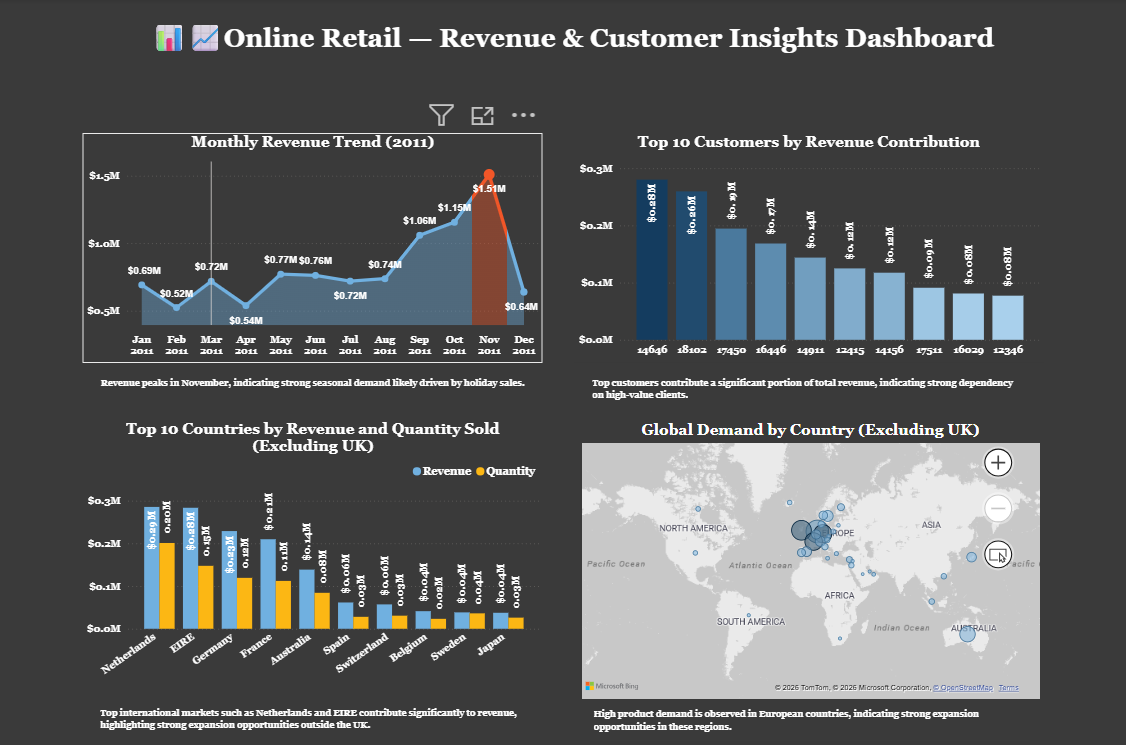

What the dashboard file says about the page in this screenshot:
{"tool":"powerbi","page":{"name":"Online Retail Analytics Dashboard","canvas":[1380,920],"ordinal":0},"visuals":[{"type":"lineChart","title":"Monthly Revenue Trend (2011)","fields":{"Y":["Sum(Online Retail.Revenue)"],"Category":["Online Retail.Month-Year"]},"box":[100.5,164.5,562.2,280],"z":0},{"type":"textbox","box":[116.9,456.5,528.8,45],"z":1000},{"type":"clusteredColumnChart","title":"Top 10 Countries by Revenue and Quantity Sold (Excluding UK)","fields":{"Category":["Online Retail.Country"],"Y":["Sum(Online Retail.Revenue)","Sum(Online Retail.Quantity)"]},"box":[100.7,515.2,562.5,330],"z":2000},{"type":"textbox","box":[116.9,859,528.8,47.5],"z":3000},{"type":"clusteredColumnChart","title":"Top 10 Customers by Revenue Contribution","fields":{"Category":["Online Retail.CustomerID"],"Y":["Sum(Online Retail.Revenue)"]},"box":[700.7,164,572.5,280],"z":4000},{"type":"textbox","box":[718.2,455.2,536.2,46.2],"z":5000},{"type":"map","title":"Global Demand by Country (Excluding UK)","fields":{"Category":["Online Retail.Country"],"Size":["Sum(Online Retail.Quantity)"]},"box":[704.3,515.7,568.6,342.9],"z":5001},{"type":"textbox","box":[718.6,860,535.7,45.7],"z":5002},{"type":"textbox","box":[130,20,1138,66],"z":5003}]}

Visuals, with their boxes in screenshot pixels (x1, y1, x2, y2), scaled from the page's 1380x920 canvas onto the 1126x745 screenshot:
"Monthly Revenue Trend (2011)" lineChart: l=82, t=133, r=541, b=360
textbox: l=95, t=370, r=527, b=406
"Top 10 Countries by Revenue and Quantity Sold (Excluding UK)" clusteredColumnChart: l=82, t=417, r=541, b=684
textbox: l=95, t=696, r=527, b=734
"Top 10 Customers by Revenue Contribution" clusteredColumnChart: l=572, t=133, r=1039, b=360
textbox: l=586, t=369, r=1024, b=406
"Global Demand by Country (Excluding UK)" map: l=575, t=418, r=1039, b=695
textbox: l=586, t=696, r=1023, b=733
textbox: l=106, t=16, r=1035, b=70
